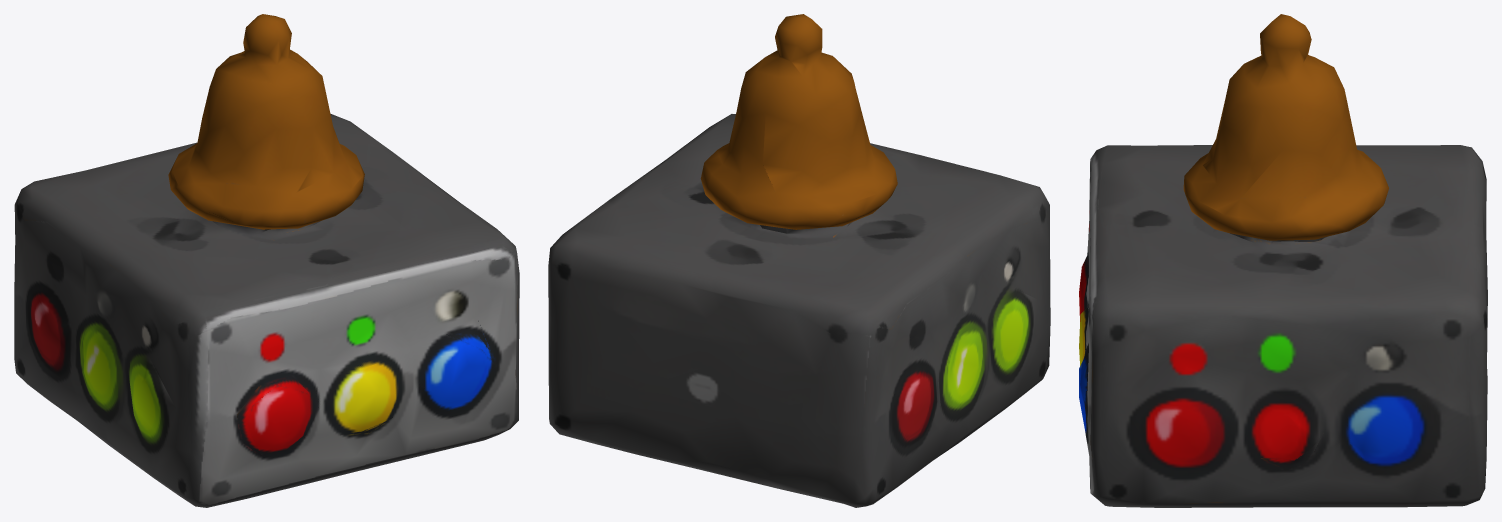
The model's file is alarm-panel.glb.
3 renders of one model, left to right at view 1: azimuth 30°, elevation 25°; view 2: azimuth 150°, elevation 25°; view 3: azimuth 270°, elevation 25°, orthographic. The views are drawn at different scales.
Visible parts, largest first — view 1: geometry_0.001; view 2: geometry_0.001; view 3: geometry_0.001.
Boxes of the visible parts, x1,y1,x2,y2 form: geometry_0.001: (14, 14, 519, 507); geometry_0.001: (548, 14, 1050, 507); geometry_0.001: (1079, 14, 1487, 507).
Size of the model in its own units: 0.9044 by 0.9991 by 0.8948.
1 material, 1 textured.
